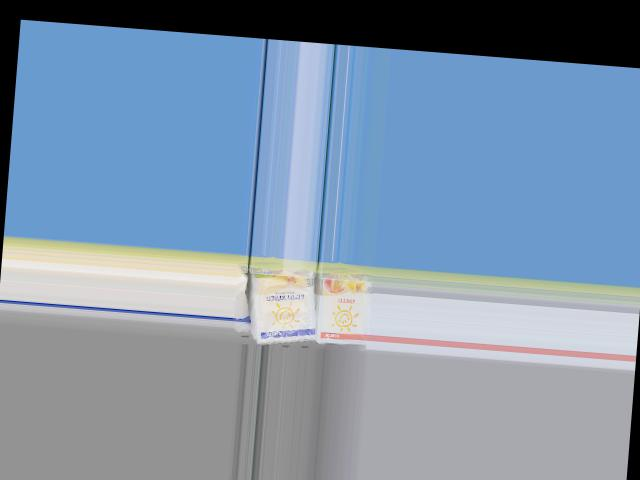cheese: (315, 261, 376, 351)
